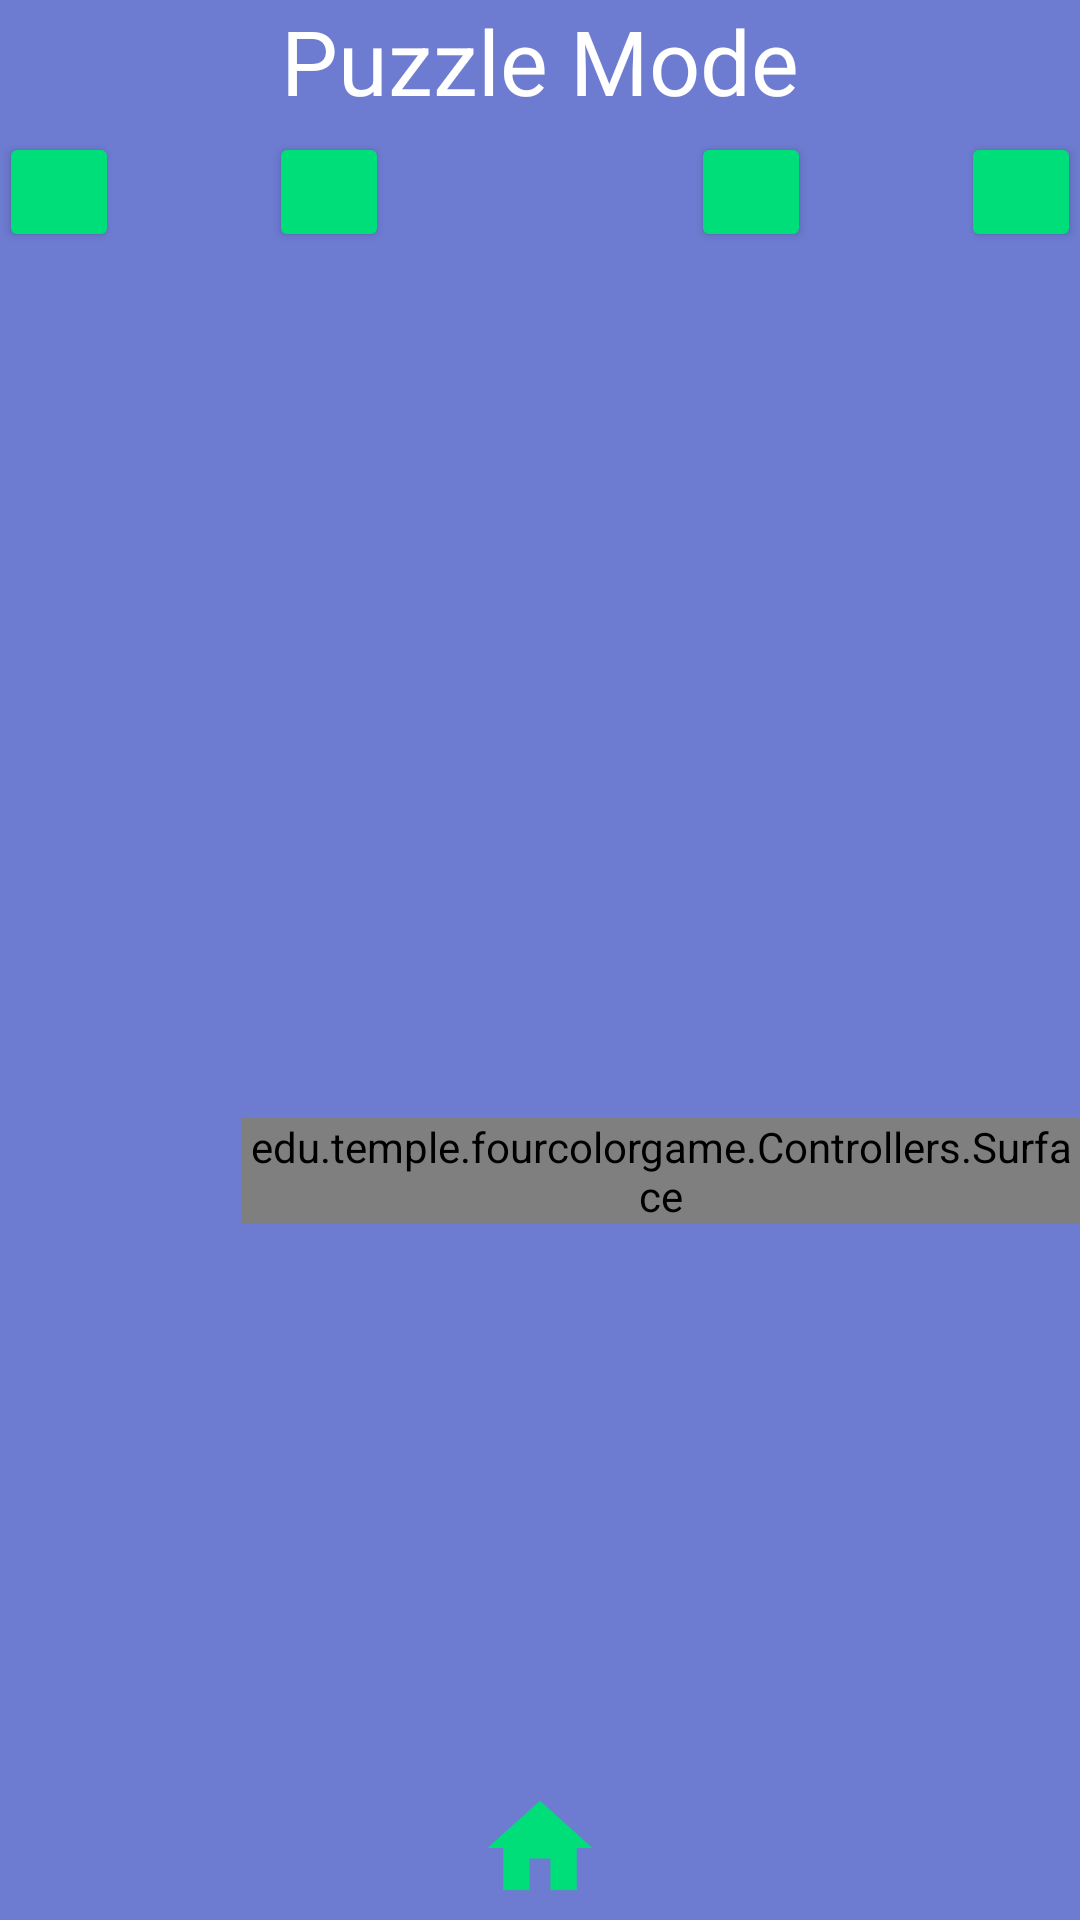

Point at icon controls on the screen. Image size 1080 x 1920, points as (x,y).
Home: (540,1845)
